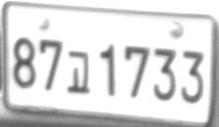1: (96, 43, 122, 96)
3: (152, 47, 176, 101), (180, 50, 203, 103)
7: (124, 45, 150, 97), (38, 38, 63, 91)
8: (12, 36, 36, 88)
고: (67, 50, 90, 93)
